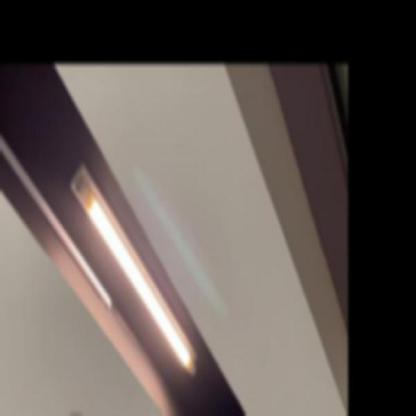light_on: (66, 154, 208, 384)
